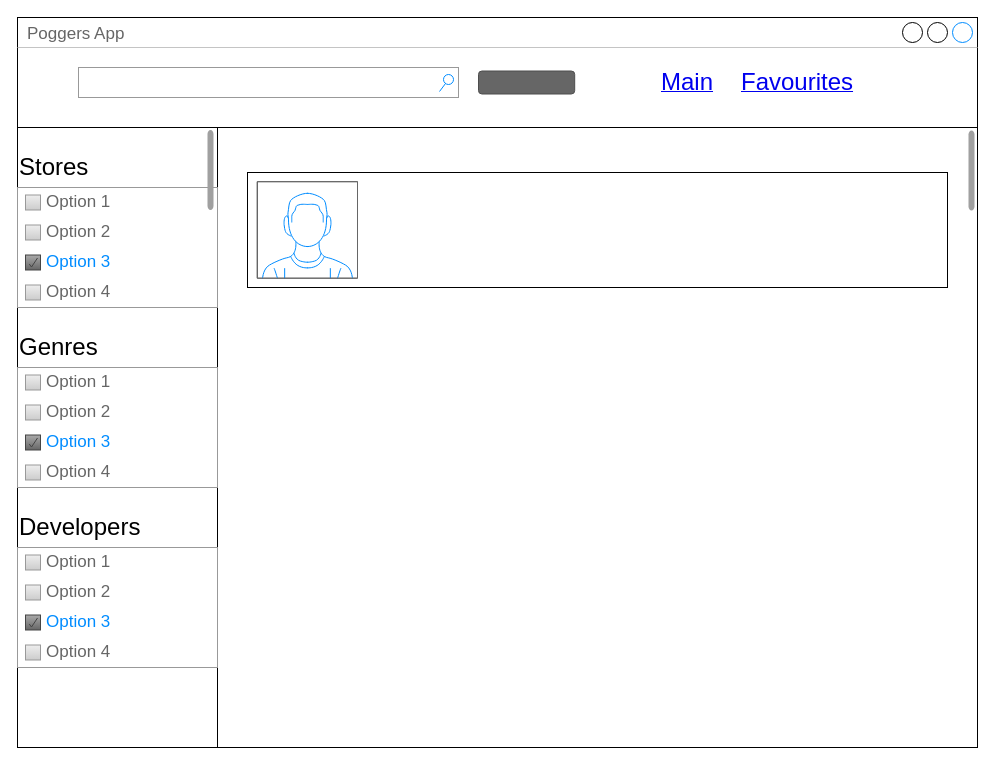
This 995x765 diagram has some shape labels left out. The shapes that lost their labels are listed below. From the top down, each one's box as (x1, y1, x2, y2) in pixels, then its label:
(78, 66, 458, 98): Search
(478, 70, 575, 94): Filter
